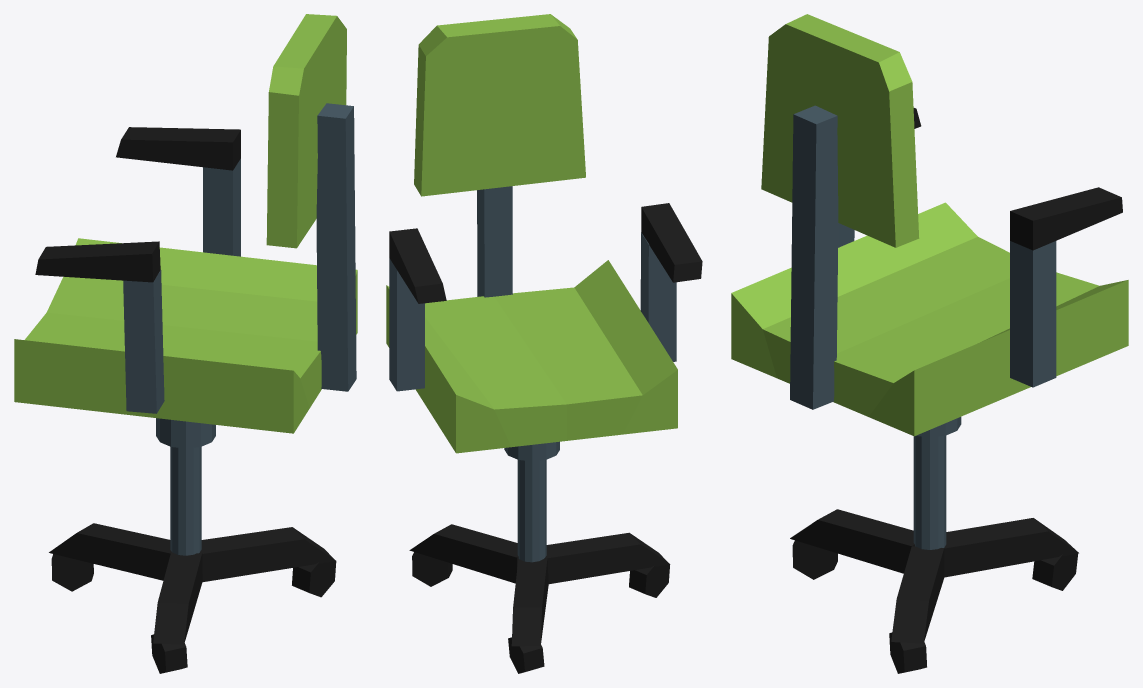
The model's file is office-chair.glb.
3 renders of one model, left to right at view 1: azimuth 30°, elevation 25°; view 2: azimuth 150°, elevation 25°; view 3: azimuth 270°, elevation 25°, orthographic. The views are drawn at different scales.
Visible parts, largest first — view 1: group2085468419, group153276720, group885346702, group878973635, group223465399, group223756203, group1403086773, group171858826, group1354945553, group480012721, group1824753129, group1155512344 (+3 smaller); view 2: group2085468419, group153276720, group480012721, group885346702, group1824753129, group223465399, group1403086773, group1354945553, group878973635, group171858826, group223756203, group1988404408 (+3 smaller); view 3: group2085468419, group153276720, group885346702, group1824753129, group171858826, group480012721, group223756203, group1354945553, group223465399, group1988404408, group1115300914, group72386895.
Part boxes in pixels (left/top/right/bottom): group2085468419: left=14, top=238, right=357, bottom=433; group153276720: left=266, top=14, right=346, bottom=248; group885346702: left=316, top=103, right=356, bottom=391; group878973635: left=123, top=270, right=164, bottom=413; group223465399: left=199, top=527, right=335, bottom=582; group223756203: left=116, top=127, right=240, bottom=170; group1403086773: left=35, top=241, right=160, bottom=282; group171858826: left=49, top=523, right=171, bottom=580; group1354945553: left=170, top=447, right=201, bottom=555; group480012721: left=153, top=552, right=202, bottom=644; group1824753129: left=203, top=158, right=240, bottom=256; group1155512344: left=156, top=418, right=215, bottom=448; group2085468419: left=386, top=260, right=677, bottom=453; group153276720: left=414, top=14, right=585, bottom=196; group480012721: left=544, top=532, right=669, bottom=584; group885346702: left=477, top=186, right=512, bottom=297; group1824753129: left=389, top=258, right=424, bottom=391; group223465399: left=409, top=524, right=518, bottom=583; group1403086773: left=641, top=203, right=702, bottom=282; group1354945553: left=517, top=460, right=546, bottom=562; group878973635: left=640, top=232, right=676, bottom=361; group171858826: left=511, top=558, right=548, bottom=646; group223756203: left=389, top=228, right=446, bottom=303; group1988404408: left=629, top=564, right=670, bottom=597; group2085468419: left=731, top=202, right=1128, bottom=436; group153276720: left=761, top=14, right=919, bottom=247; group885346702: left=790, top=105, right=838, bottom=409; group1824753129: left=1010, top=241, right=1056, bottom=387; group171858826: left=944, top=518, right=1078, bottom=577; group480012721: left=790, top=509, right=914, bottom=573; group223756203: left=1010, top=187, right=1122, bottom=250; group1354945553: left=913, top=435, right=946, bottom=549; group223465399: left=891, top=546, right=944, bottom=643; group1988404408: left=792, top=540, right=837, bottom=579; group1115300914: left=1032, top=553, right=1078, bottom=590; group72386895: left=889, top=632, right=926, bottom=673.
Bounding box in the file's own units: 0.2438 × 0.4161 × 0.2424.
